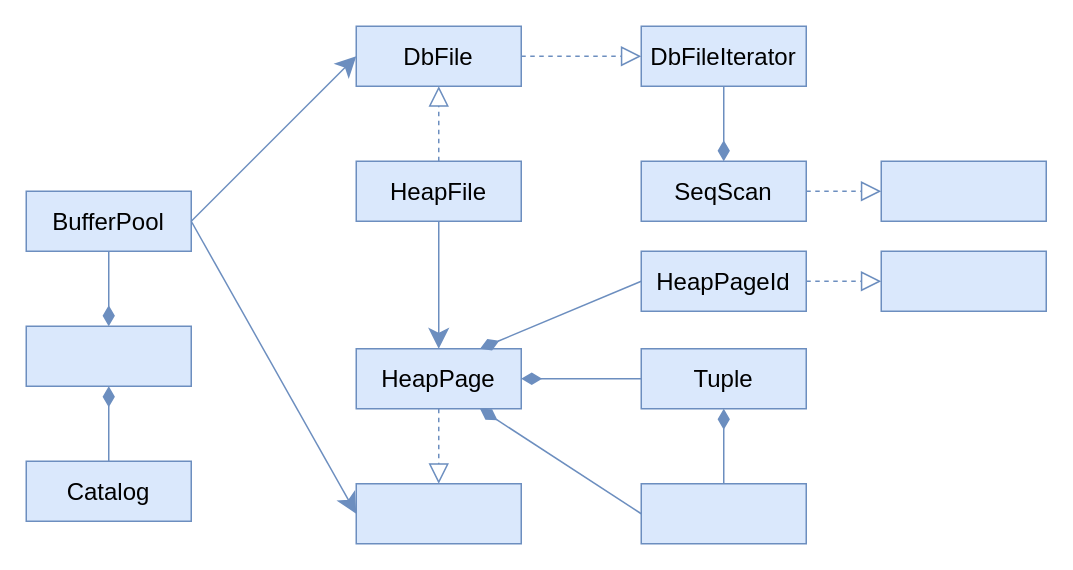
Some shapes in this 1073 by 570 pixel diagram are drawn without their labels. The shapes that lost their labels are listed below. From the top down, each one's centre as x and y in pixels, then its label:
the point at 963,190: OpIterator
the point at 963,280: PageId
the point at 108,355: Database
the point at 438,513: Page
the point at 723,513: TupleDesc
